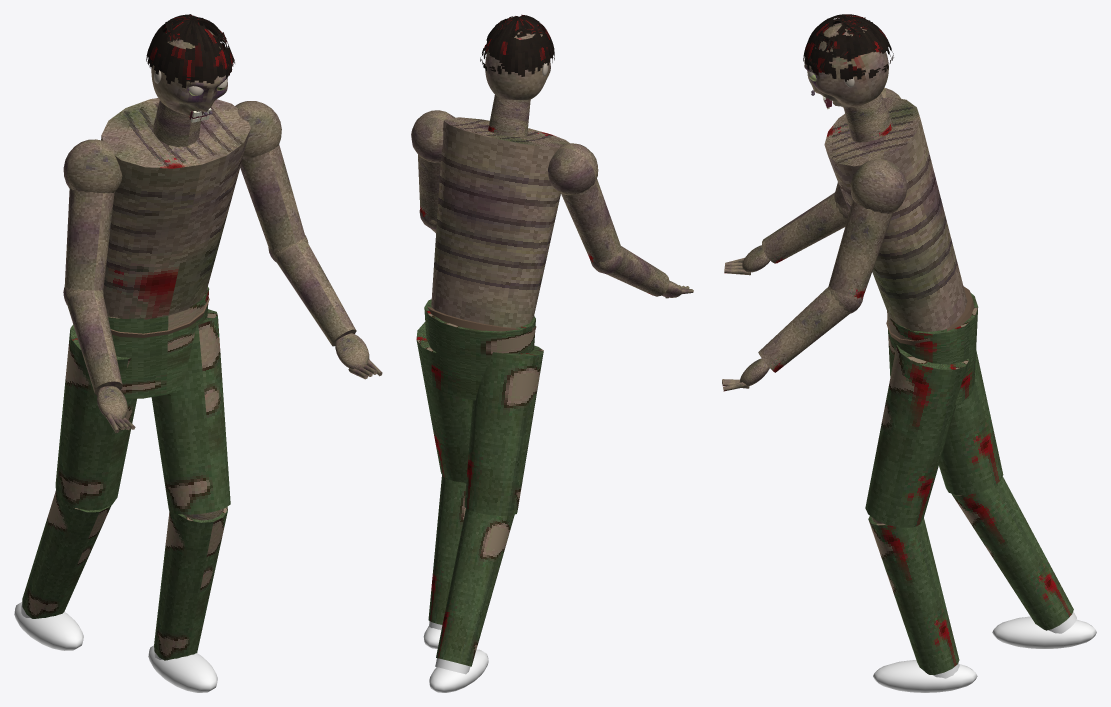
File: Zombie_049.glb
3 renders of one model, left to right at view 1: azimuth 30°, elevation 25°; view 2: azimuth 150°, elevation 25°; view 3: azimuth 270°, elevation 25°, orthographic. The views are drawn at different scales.
Parts seen in each view (by area): view 1: Zombie_049, object 43, object 10, object 3, object 16, object 11, object 4; view 2: Zombie_049, object 43, object 16, object 3; view 3: Zombie_049, object 16, object 10, object 3, object 43, object 42.
Part boxes in pixels (x1,y1,x2,y2): Zombie_049: [14, 98, 305, 692]; object 43: [146, 14, 232, 85]; object 10: [276, 241, 356, 346]; object 3: [67, 290, 122, 395]; object 16: [151, 29, 227, 116]; object 11: [335, 333, 369, 369]; object 4: [97, 386, 127, 419]; Zombie_049: [411, 95, 621, 692]; object 43: [480, 14, 554, 74]; object 16: [485, 31, 550, 100]; object 3: [606, 246, 669, 296]; Zombie_049: [824, 87, 1096, 692]; object 16: [804, 22, 888, 107]; object 10: [758, 287, 849, 372]; object 3: [762, 192, 847, 263]; object 43: [803, 14, 893, 78]; object 42: [809, 18, 891, 81].
Bounding box in the file's own units: 0.7545 × 1.9 × 0.9823.
Materials: 16 (6 with a texture image).
